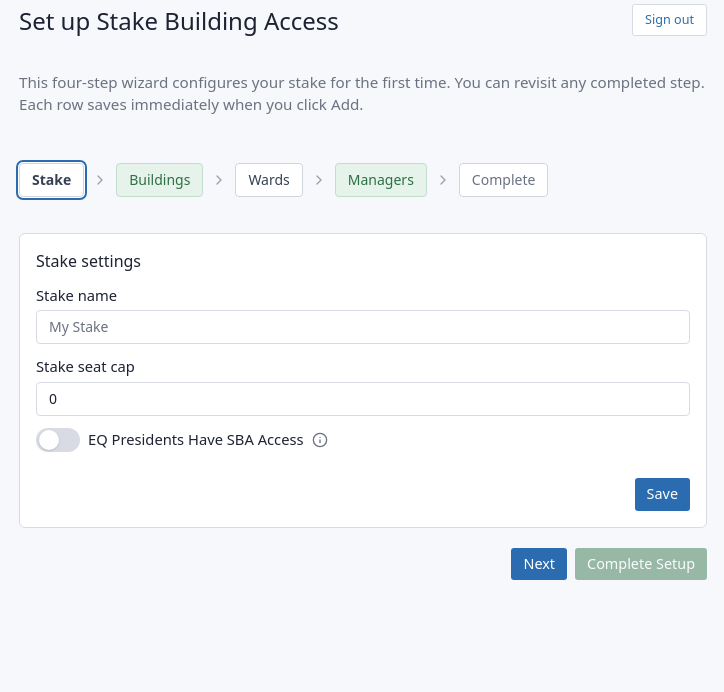
Scenario: <BootstrapWizardPage /> › Next-button gating on the buildings and wards steps › disables Next on the wards step until a ward exists, and says why
Click the tab with test id "wizard-step-tab-3" at (269, 180), box [235,163,303,197]
(page scrolled)
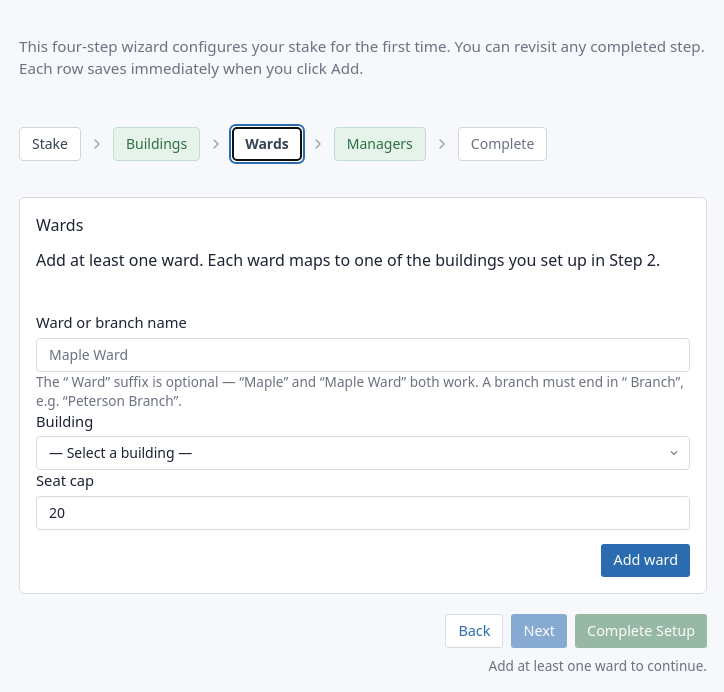
expect the button with test id "bootstrap-next" is disabled: met, box [512,614,567,648]
expect the text with test id "bootstrap-next-blocker" shows "Add at least one ward to continue": met, box [488,656,707,675]
